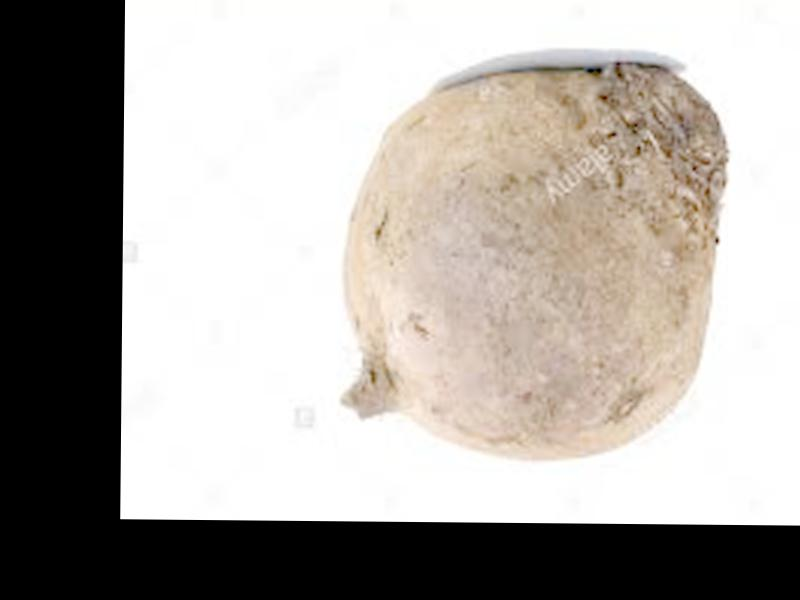Beet: (339, 61, 726, 461)
